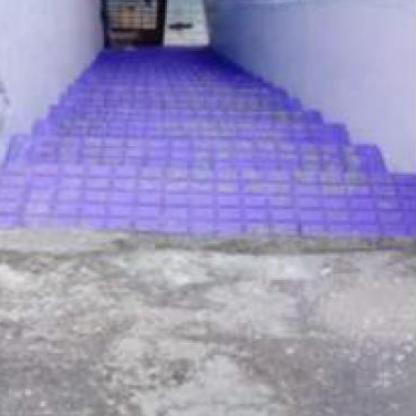stair_down: (33, 87, 330, 214)
